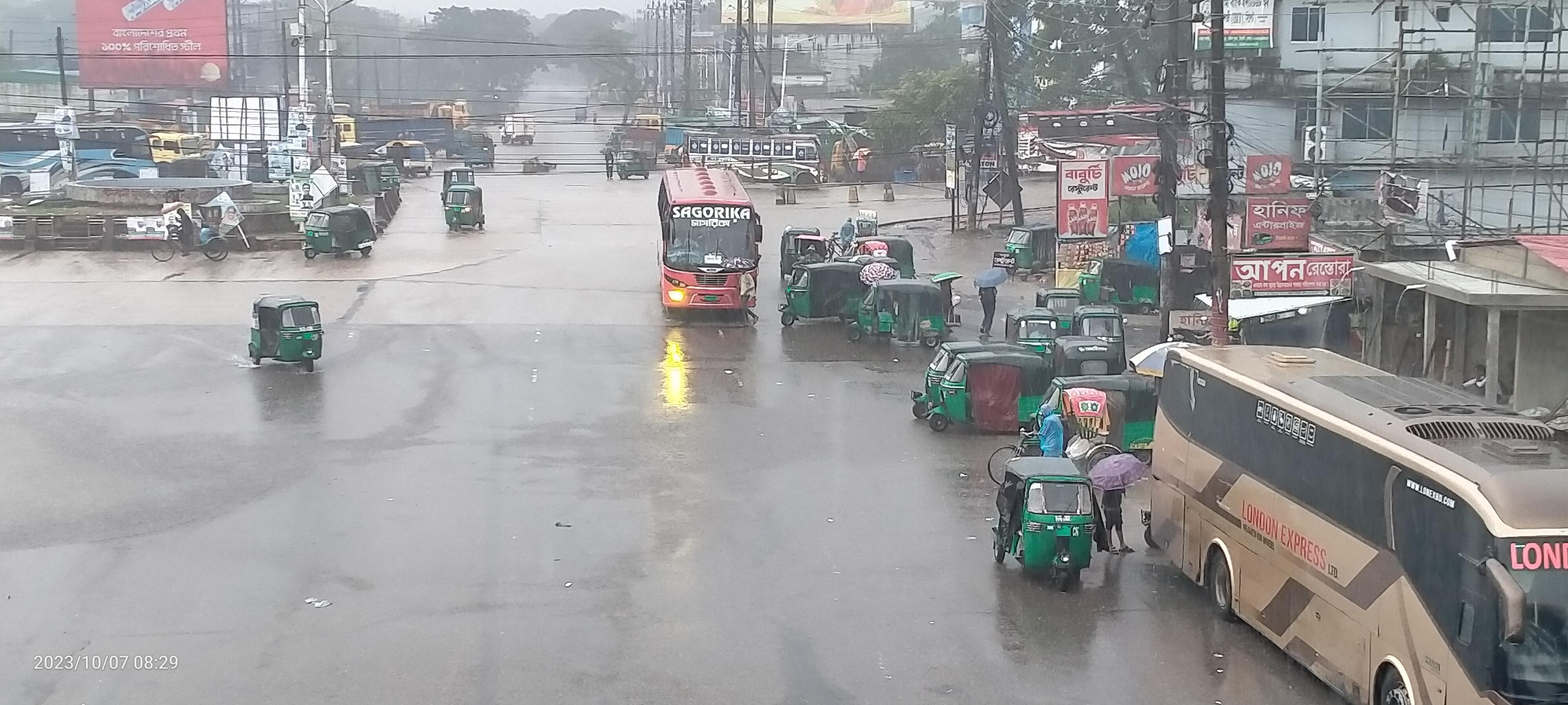Bus: (1134, 316, 1568, 705), (632, 141, 798, 326), (989, 75, 1218, 199), (677, 110, 850, 208), (0, 113, 162, 215)
Car: (375, 133, 441, 187), (496, 106, 537, 151)
Truck: (316, 97, 461, 172), (145, 122, 232, 200)
